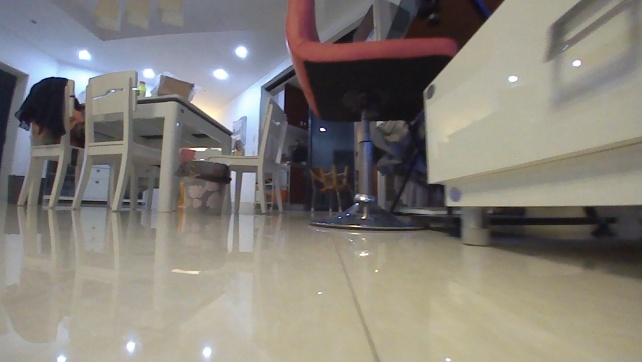chair_base: (307, 197, 435, 234)
dining_table: (11, 65, 289, 216)
